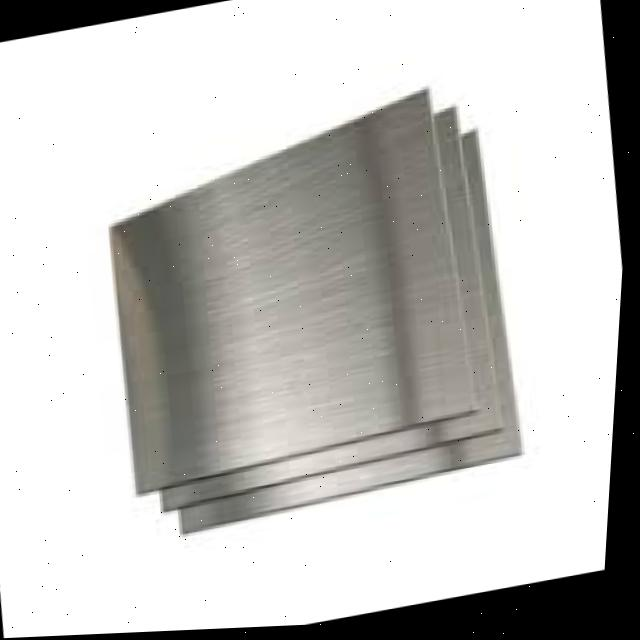Dry: (112, 89, 529, 538)
